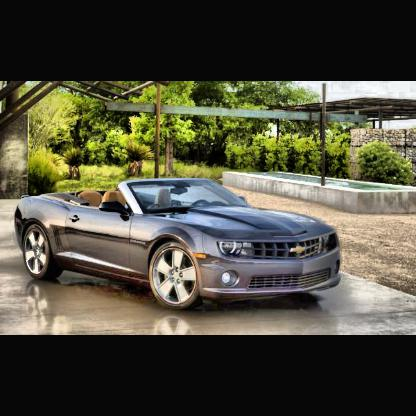Chevrolet Camaro Convertible 2012: (14, 176, 346, 309)
